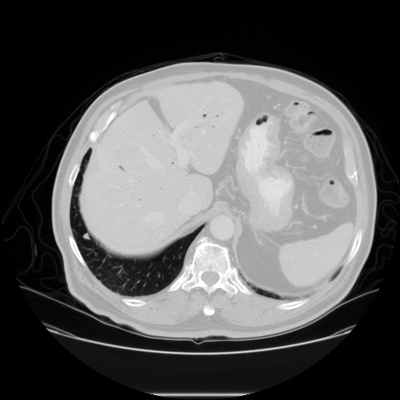nodule: (82, 232, 90, 240)
